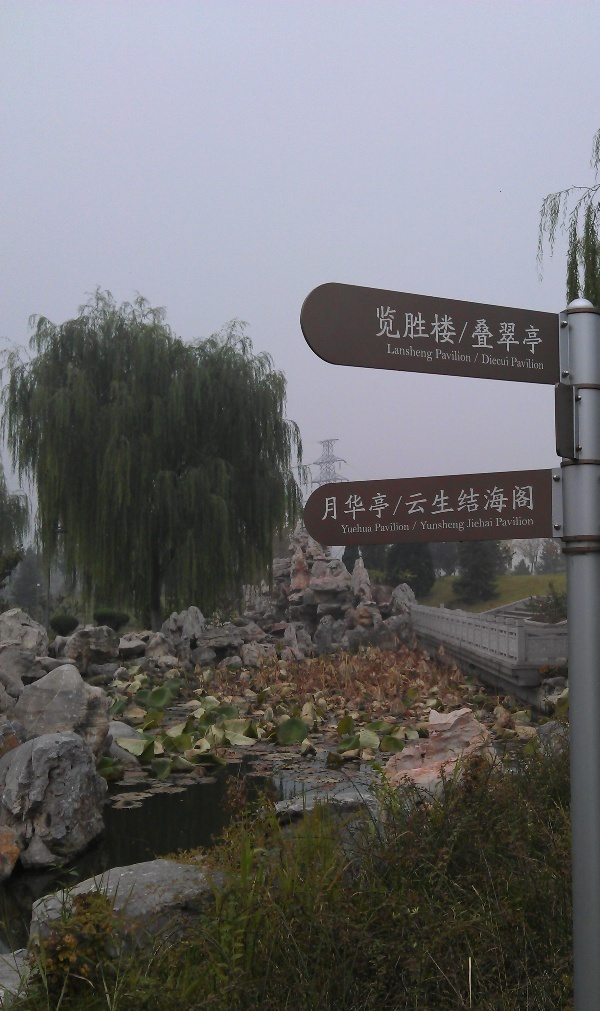text: (385, 305, 400, 355), (401, 305, 416, 355), (417, 305, 432, 355), (433, 305, 448, 355), (449, 305, 464, 355), (465, 305, 480, 355), (481, 305, 496, 355), (497, 305, 512, 355), (513, 305, 528, 355), (529, 305, 543, 355), (321, 484, 336, 522), (337, 484, 352, 522), (353, 484, 368, 522), (369, 484, 384, 522), (385, 484, 400, 522), (401, 484, 416, 522), (417, 484, 432, 522), (433, 484, 448, 522), (449, 484, 464, 522), (465, 484, 480, 522), (481, 484, 496, 522), (497, 484, 512, 522), (513, 484, 528, 522), (373, 305, 384, 355), (401, 343, 416, 362), (417, 343, 432, 362), (529, 484, 536, 522), (386, 343, 400, 362), (449, 348, 464, 363), (513, 357, 528, 371), (529, 357, 544, 371), (449, 520, 465, 533), (482, 353, 496, 367), (433, 520, 448, 533), (436, 348, 448, 363), (497, 516, 512, 528), (513, 516, 528, 528), (497, 353, 509, 367), (353, 524, 368, 535), (385, 522, 400, 533), (420, 520, 432, 533), (466, 518, 480, 529), (481, 518, 494, 529), (342, 524, 352, 535), (465, 348, 472, 363), (375, 522, 384, 533), (401, 522, 410, 533), (474, 353, 480, 363), (529, 516, 534, 528), (412, 522, 416, 531), (369, 524, 372, 535), (433, 343, 434, 362), (511, 357, 512, 371), (417, 522, 418, 531)
